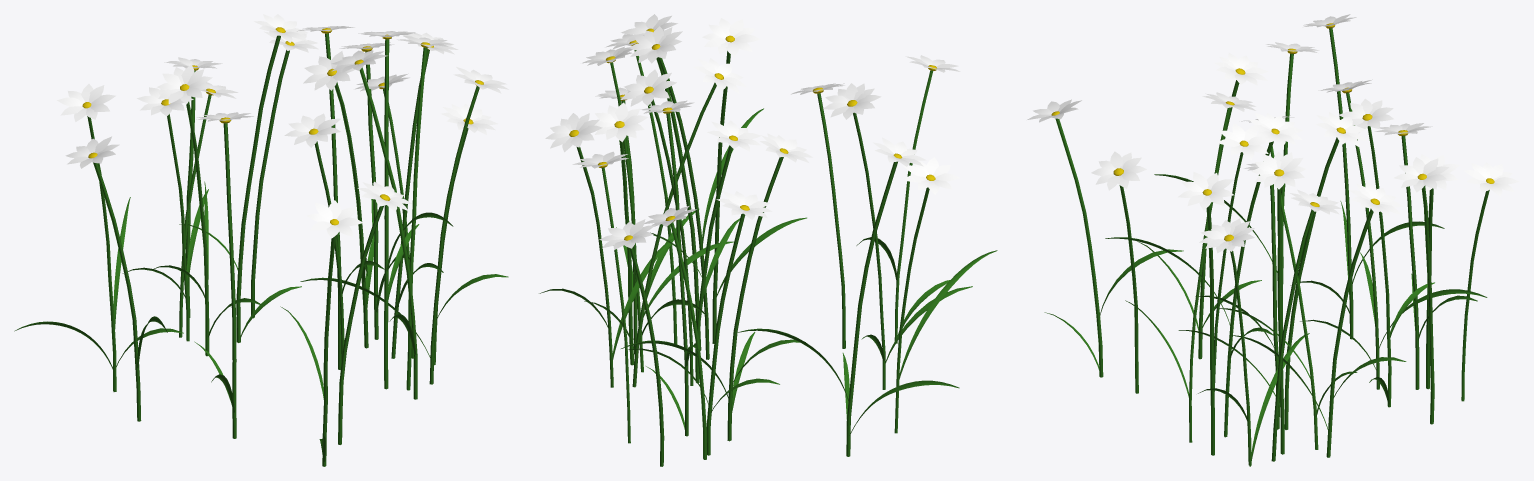
File: FLOWER 1.fbx
3 views of the same model, side by side, from view 1: azimuth 30°, elevation 25°; view 2: azimuth 150°, elevation 25°; view 3: azimuth 270°, elevation 25° (orthographic). The views are drawn at different scales.
Parts seen in each view (by area): view 1: FLOWER.002; view 2: FLOWER.002; view 3: FLOWER.002.
Boxes of the visible parts, x1,y1,x2,y2 form: FLOWER.002: (14, 14, 508, 466); FLOWER.002: (539, 14, 997, 466); FLOWER.002: (1027, 14, 1519, 466).
Bounding box in the file's own units: 27.25 × 21.04 × 28.34.
